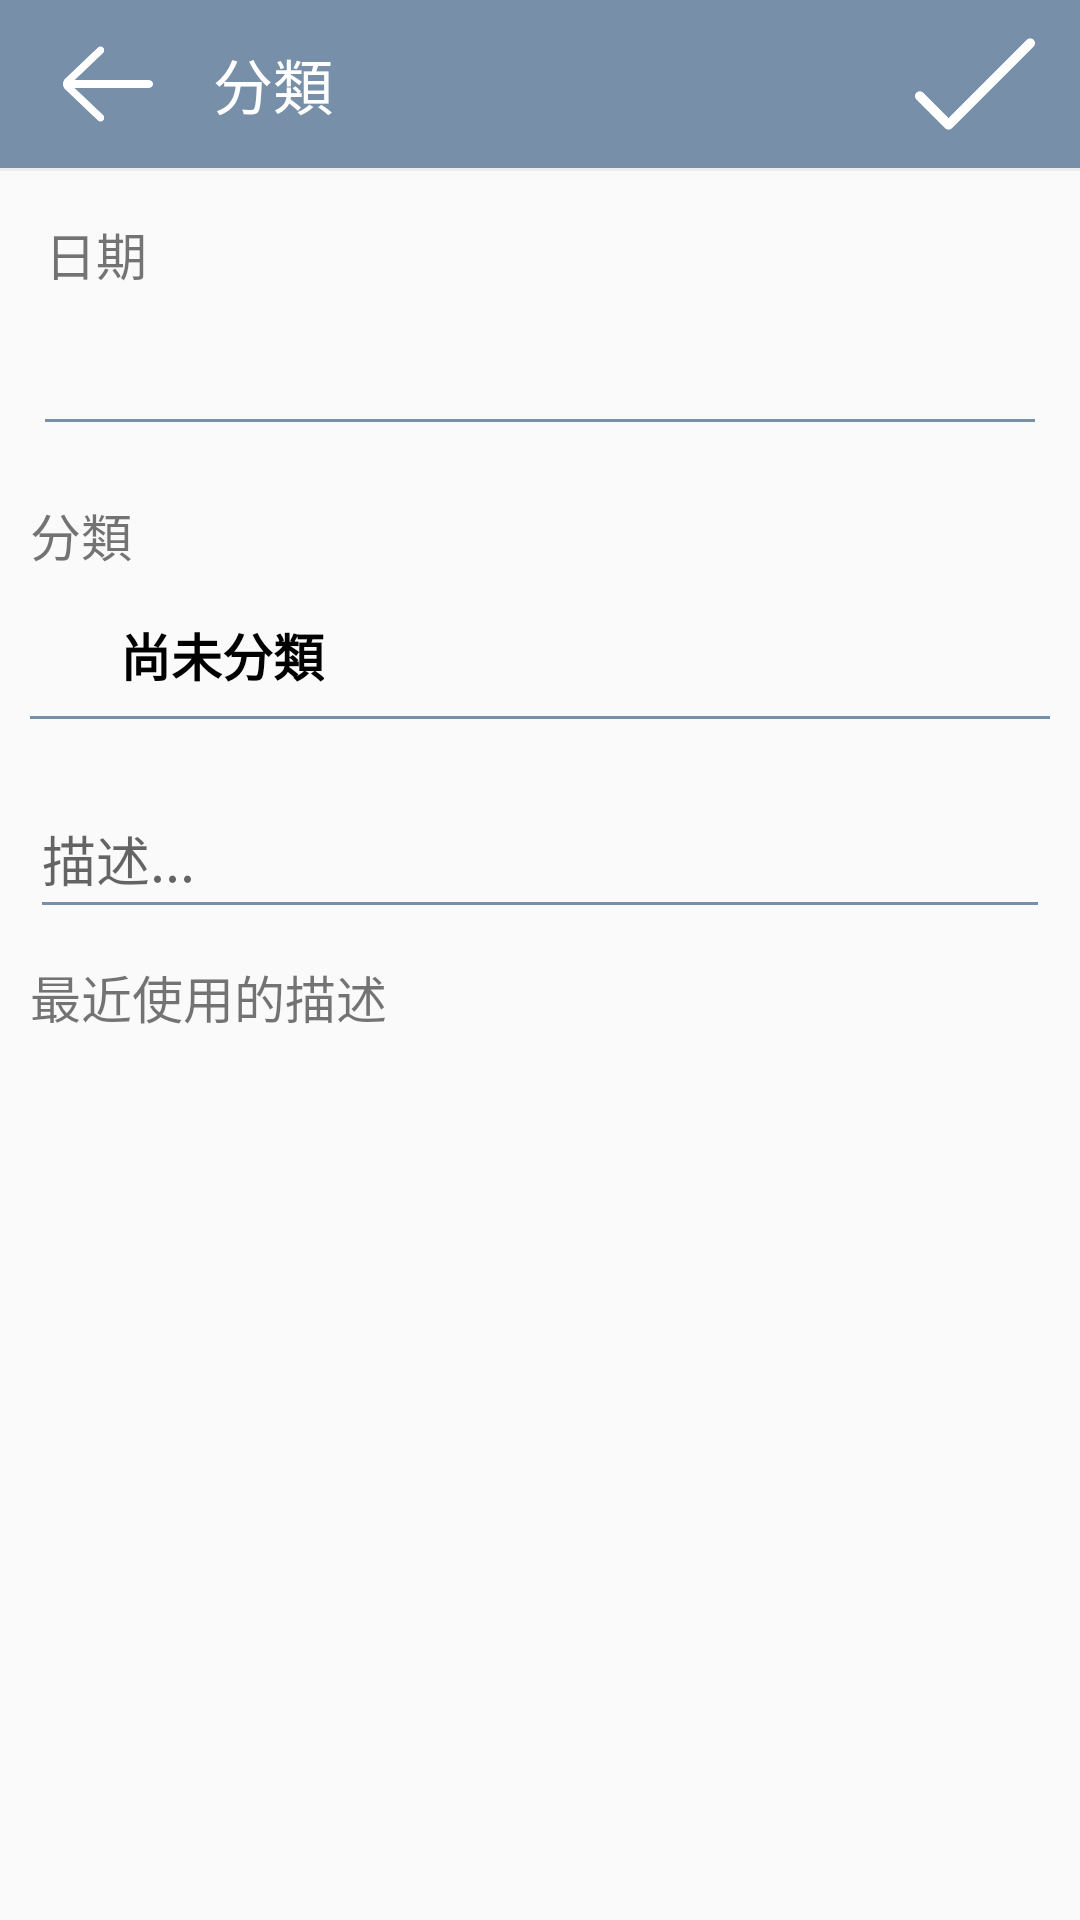

Icon bounding boxes for this 1080w x 1920h phone screenshot, format (x1, y1, x2, y2):
check: (915, 38, 1035, 130)
left arrow: (63, 46, 153, 122)
